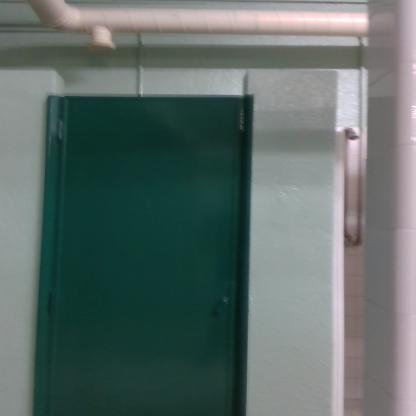closed: (23, 66, 268, 406)
